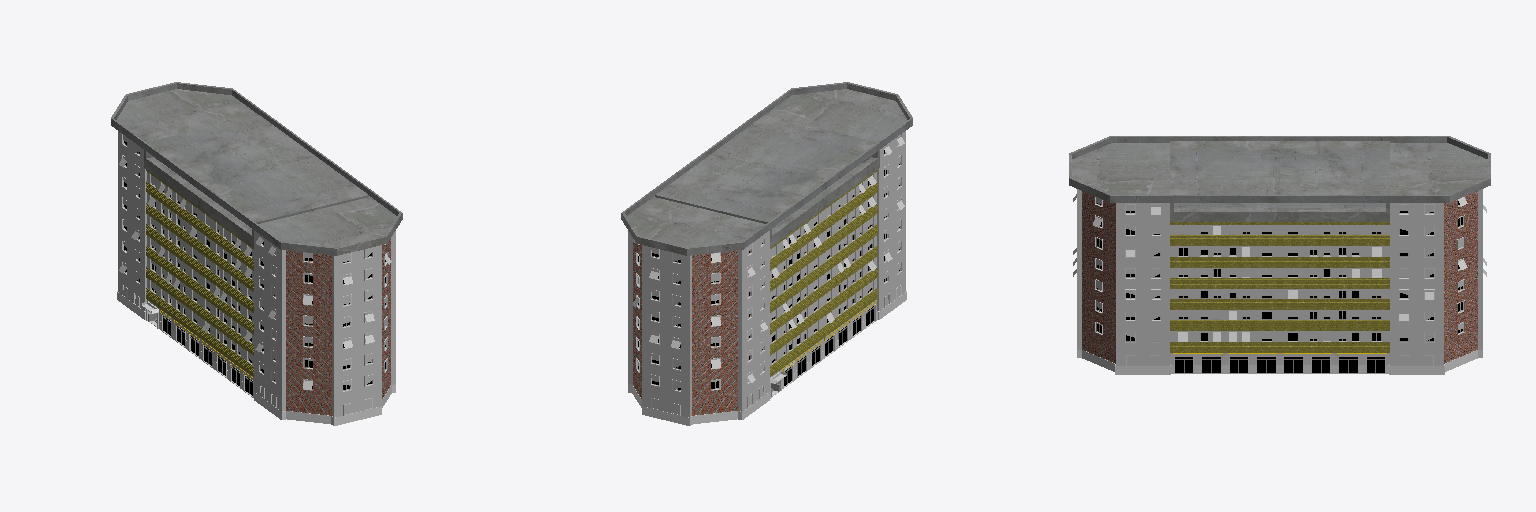
The picture shows the model from 3 angles: view 1: azimuth 30°, elevation 25°; view 2: azimuth 150°, elevation 25°; view 3: azimuth 270°, elevation 25°; orthographic projection.
Parts seen in each view (by area): view 1: building14.obj; view 2: building14.obj; view 3: building14.obj.
Part boxes in pixels (x1,y1,x2,y2): building14.obj: (111,82,402,425); building14.obj: (621,82,912,425); building14.obj: (1069,136,1490,374).
Size of the model in its own units: 182 by 255 by 540.
13 materials, 4 textured.